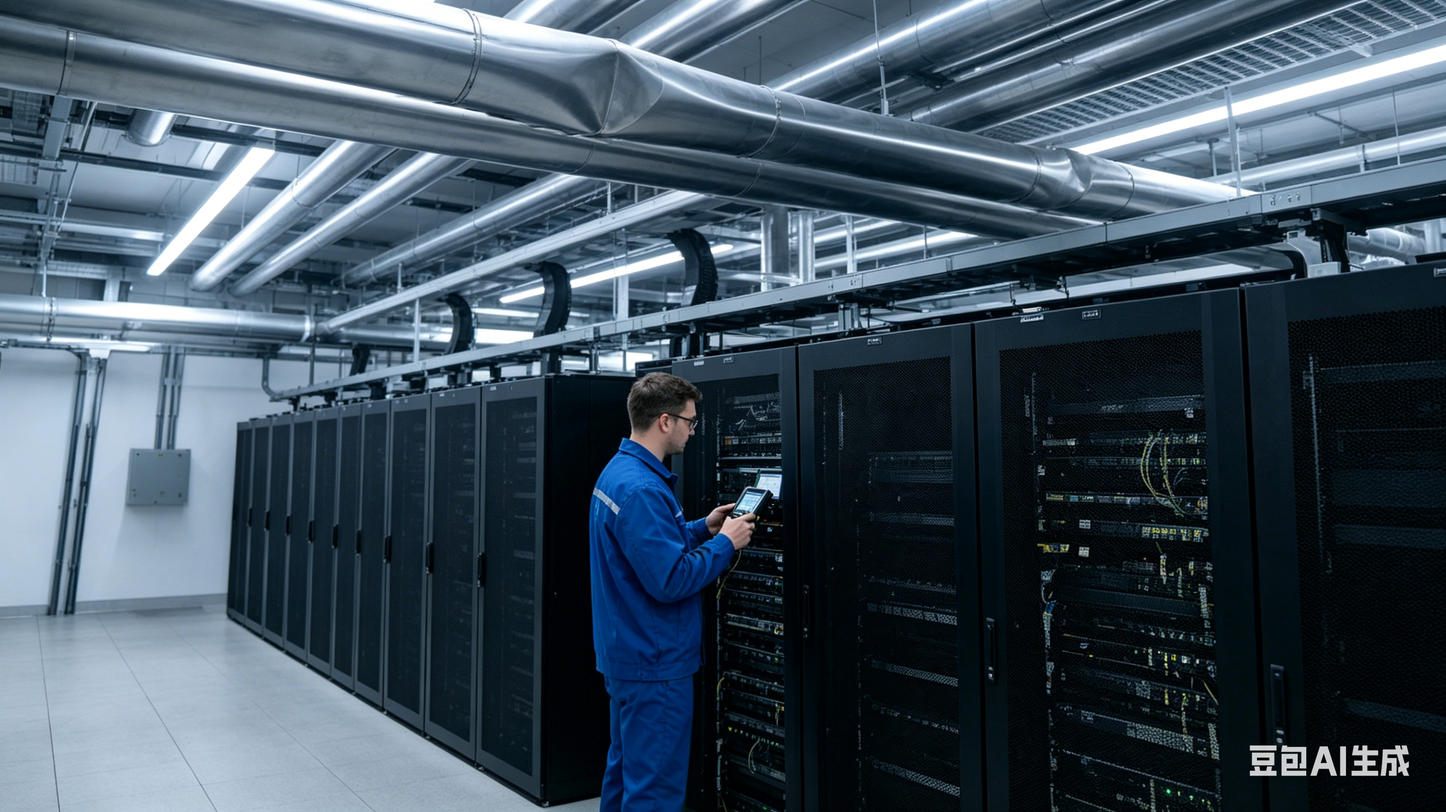Leakage: (574, 37, 671, 135)
